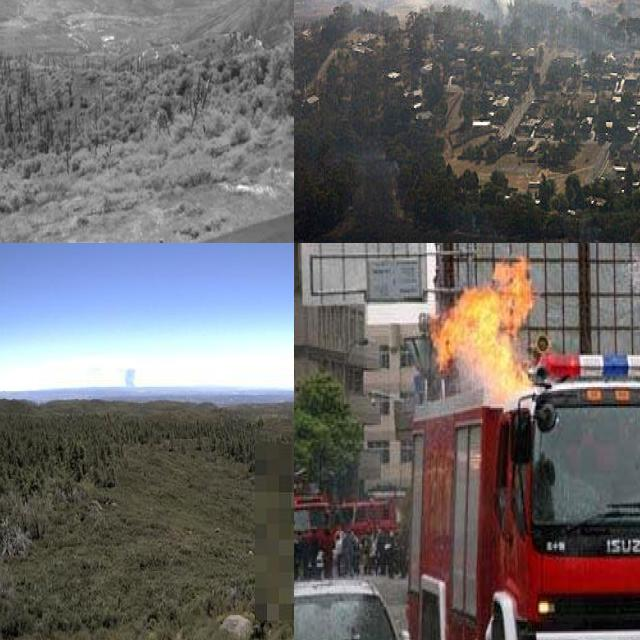fire: (427, 260, 546, 418)
smoke: (121, 362, 139, 395)
